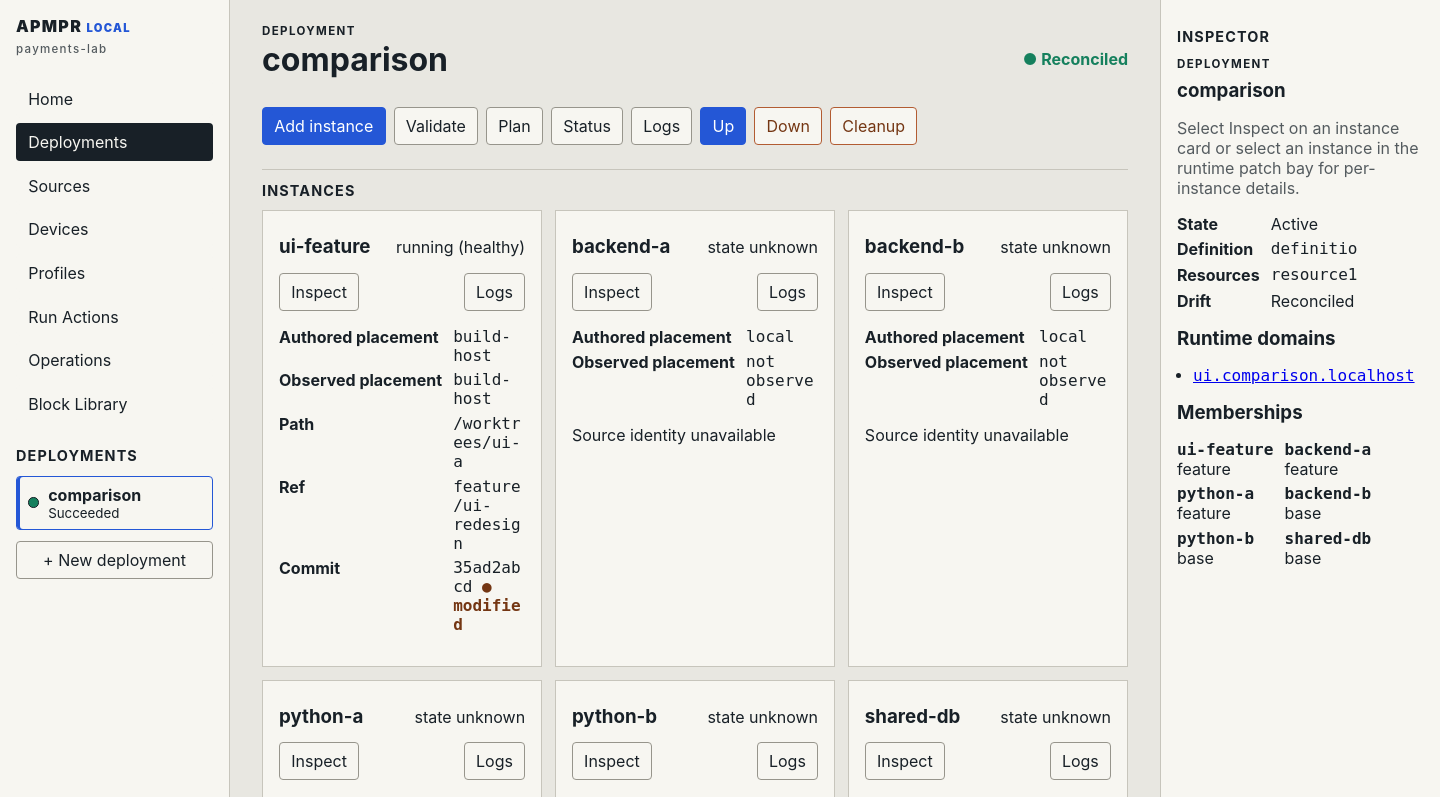
Test: APM ProjectRunner GUI › shows one honest per-instance inspector with placement, services, connections, and instance-scoped operations
Expected: the 1st heading "comparison" is shown, left=262, top=40, right=448, bottom=79
Click the button with aria-label "Inspect ui-feature" at (319, 292), box left=279, top=273, right=359, bottom=311
(page scrolled)
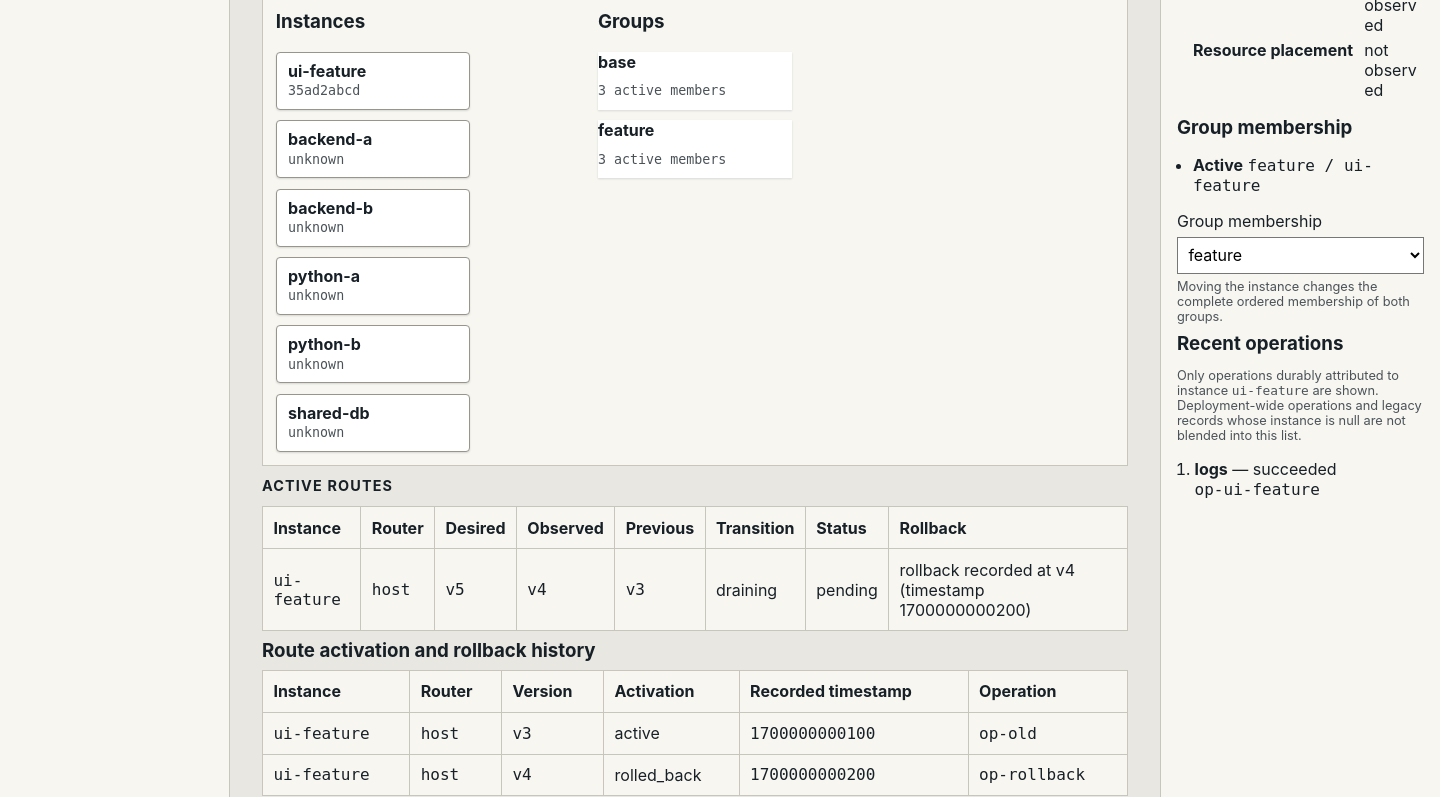
Expected: the text "not observed" is shown 3 times
Expected: the text "feature / ui-feature" is shown, left=1193, top=156, right=1373, bottom=195
Expected: the text "op-ui-feature" is shown, left=1195, top=480, right=1320, bottom=499
